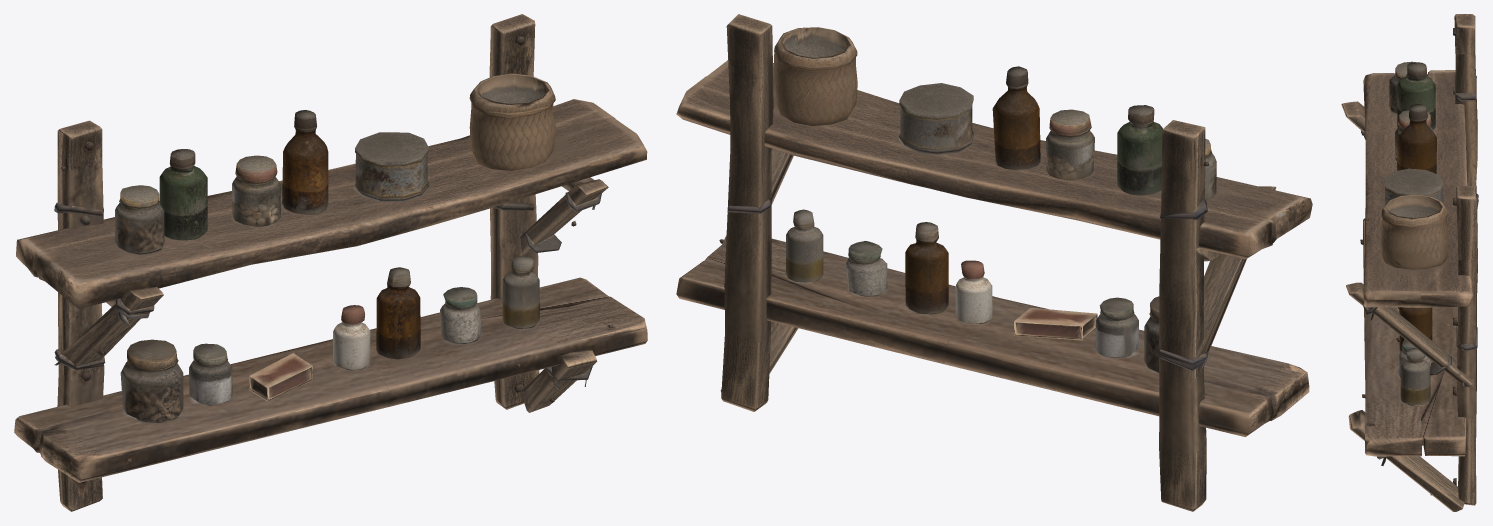
The model's file is Meshy_AI_Dusty_Apothecary_Shelf_20261029_texture.fbx.
The picture shows the model from 3 angles, left to right: view 1: azimuth 30°, elevation 25°; view 2: azimuth 150°, elevation 25°; view 3: azimuth 270°, elevation 25°; orthographic projection. The views are drawn at different scales.
Visible parts, largest first — view 1: Mesh_0; view 2: Mesh_0; view 3: Mesh_0.
Boxes of the visible parts, x1=… form: Mesh_0: x1=14, y1=14, x2=647, y2=511; Mesh_0: x1=676, y1=14, x2=1312, y2=511; Mesh_0: x1=1341, y1=14, x2=1478, y2=511.
Size of the model in its own units: 95.7 by 61.38 by 24.56.
Materials: 1 (1 with a texture image).
